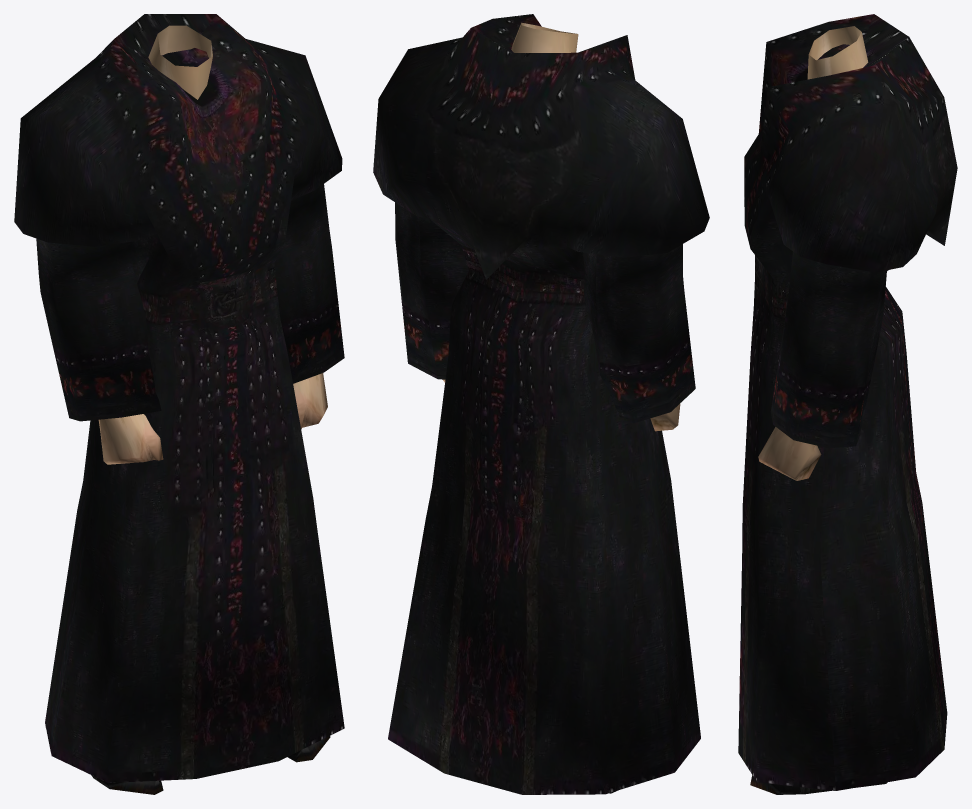
Rendered from MROK_T3_02.glb.
3 views of the same model, side by side, from view 1: azimuth 30°, elevation 25°; view 2: azimuth 150°, elevation 25°; view 3: azimuth 270°, elevation 25° (orthographic). The views are drawn at different scales.
Visible parts, largest first — view 1: MROK_T3_02; view 2: MROK_T3_02; view 3: MROK_T3_02.
Boxes of the visible parts, bbox=[...] form: MROK_T3_02: bbox=[14, 14, 344, 794]; MROK_T3_02: bbox=[373, 14, 709, 794]; MROK_T3_02: bbox=[738, 14, 957, 794].
Bounding box in the file's own units: 0.7517 × 1.66 × 0.4623.
2 materials, 2 textured.
